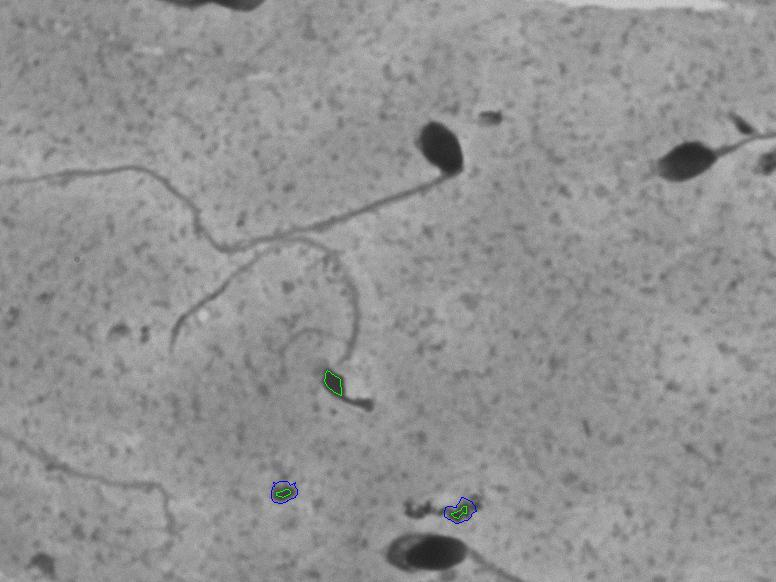Abnormal: (4, 107, 489, 266)
